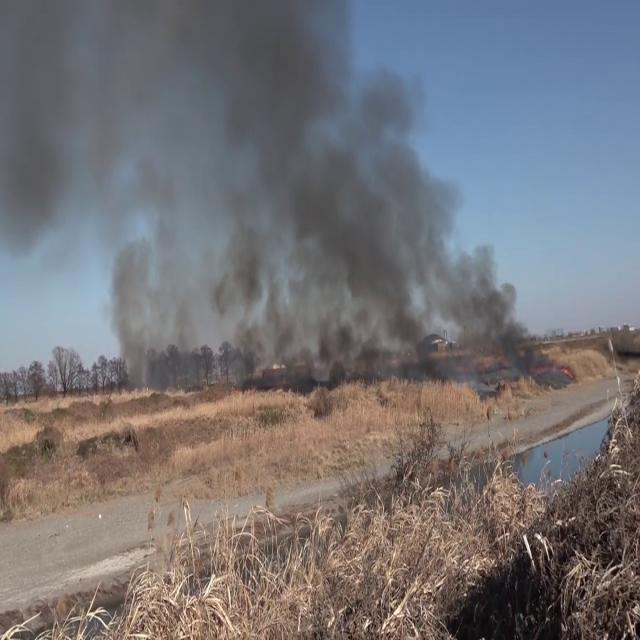Smoke: (0, 1, 545, 380), (195, 1, 535, 378)
